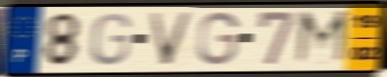7: (255, 9, 297, 67)
8: (41, 11, 84, 69)
G: (194, 10, 242, 67), (88, 11, 134, 67)
M: (292, 8, 353, 67)
V: (145, 11, 197, 68)
